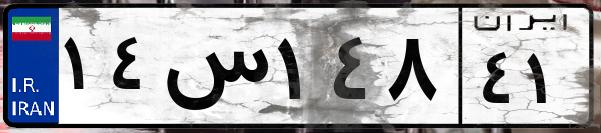1: (270, 28, 330, 110), (57, 26, 110, 100), (525, 38, 570, 115)
4: (330, 28, 385, 110), (475, 38, 525, 113), (110, 28, 158, 98)
8: (385, 28, 445, 110)
س: (158, 20, 270, 120)
